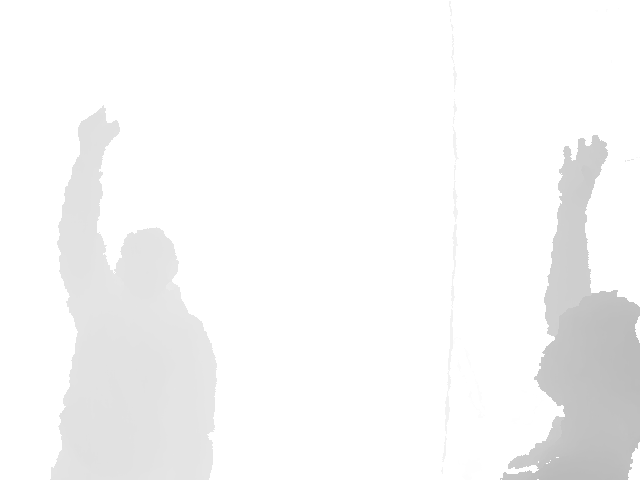hand: (557, 134, 608, 204), (78, 106, 121, 149)
head: (535, 290, 640, 429), (114, 228, 180, 298)
person: (49, 105, 219, 480), (498, 134, 640, 480)
